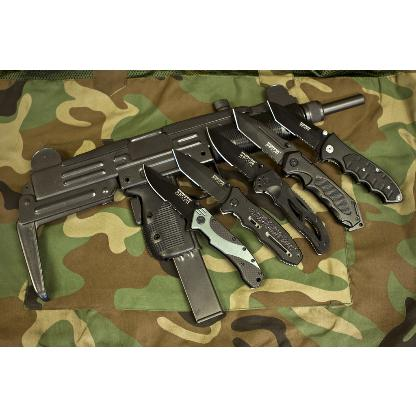gun: (15, 81, 363, 324)
